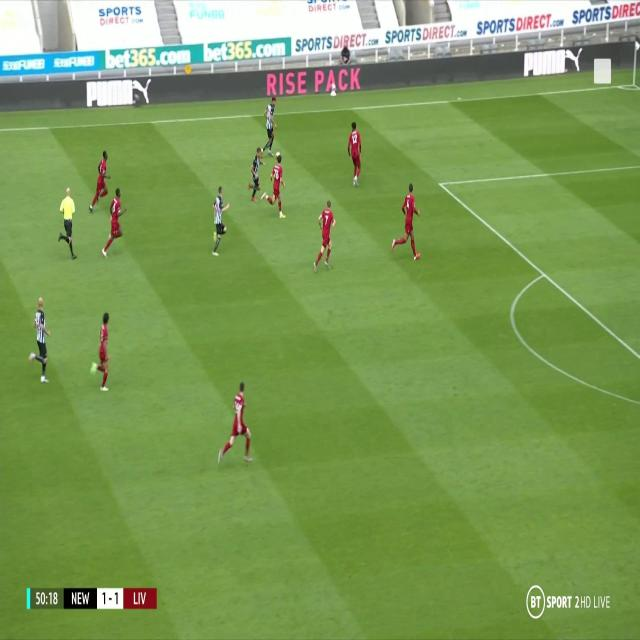player: (219, 381, 254, 469), (391, 186, 423, 260), (27, 297, 53, 386), (101, 190, 128, 258), (313, 200, 337, 276), (90, 313, 112, 392), (88, 150, 112, 216), (208, 185, 230, 257), (57, 186, 77, 263), (266, 152, 288, 218), (346, 120, 364, 188), (262, 92, 280, 156), (248, 145, 266, 202)
